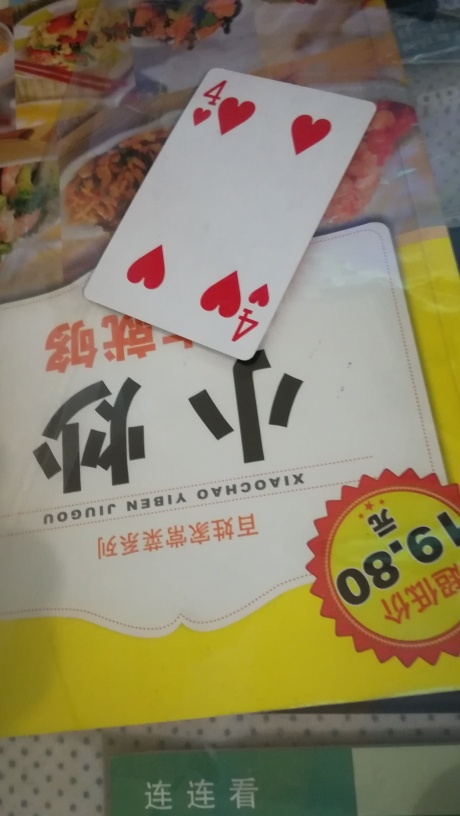hx 4: (87, 69, 376, 369)
